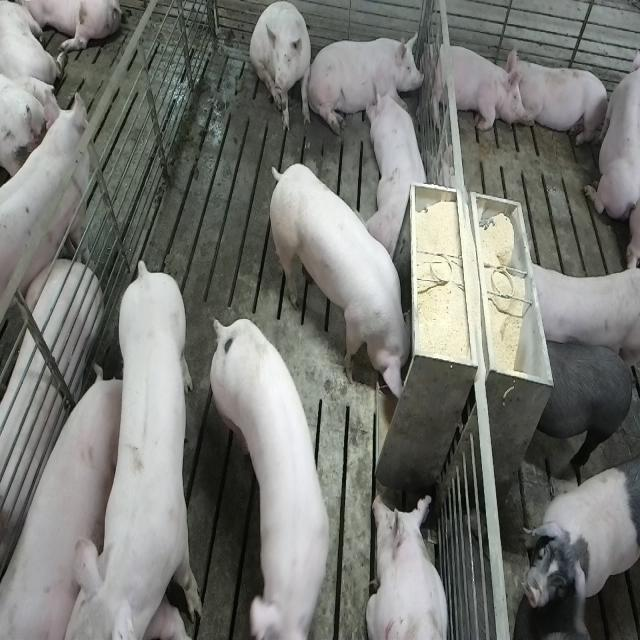Feeding: (264, 162, 410, 404)
Lateral_lying: (0, 369, 119, 640)
Sitting: (250, 2, 312, 134)
Standing: (74, 255, 202, 640), (211, 316, 334, 638), (0, 96, 90, 337), (520, 463, 638, 614), (528, 337, 636, 482), (522, 256, 638, 368)
Sternal_lying: (367, 491, 450, 640), (369, 78, 431, 262), (315, 31, 422, 132), (584, 34, 637, 224), (509, 51, 611, 149), (425, 36, 523, 136)
